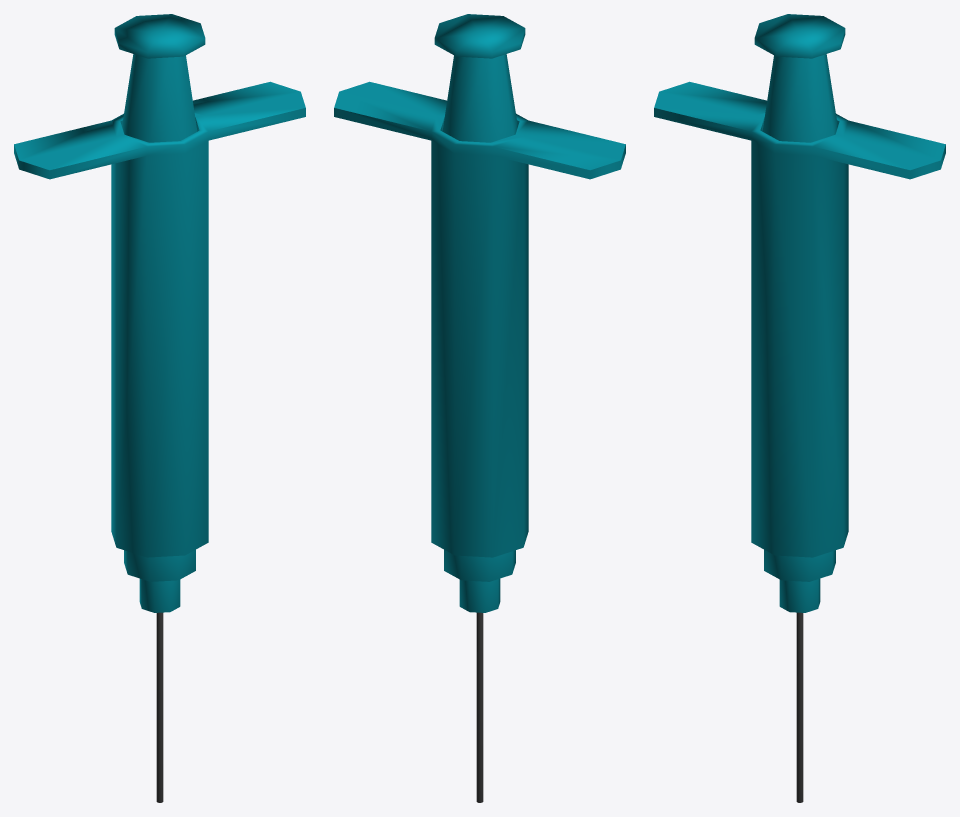
Rendered from Syringe.fbx.
The picture shows the model from 3 angles, left to right: view 1: azimuth 30°, elevation 25°; view 2: azimuth 150°, elevation 25°; view 3: azimuth 330°, elevation 25°; orthographic projection.
Parts seen in each view (by area): view 1: Cylinder, Cylinder.001; view 2: Cylinder, Cylinder.001; view 3: Cylinder, Cylinder.001.
Part boxes in pixels (x1=…): Cylinder: x1=14, y1=81, x2=305, y2=802; Cylinder.001: x1=114, y1=14, x2=205, y2=142; Cylinder: x1=334, y1=81, x2=625, y2=802; Cylinder.001: x1=434, y1=14, x2=525, y2=142; Cylinder: x1=654, y1=81, x2=945, y2=802; Cylinder.001: x1=754, y1=14, x2=845, y2=142.
Size of the model in its own units: 4.36 by 11.36 by 1.35.
